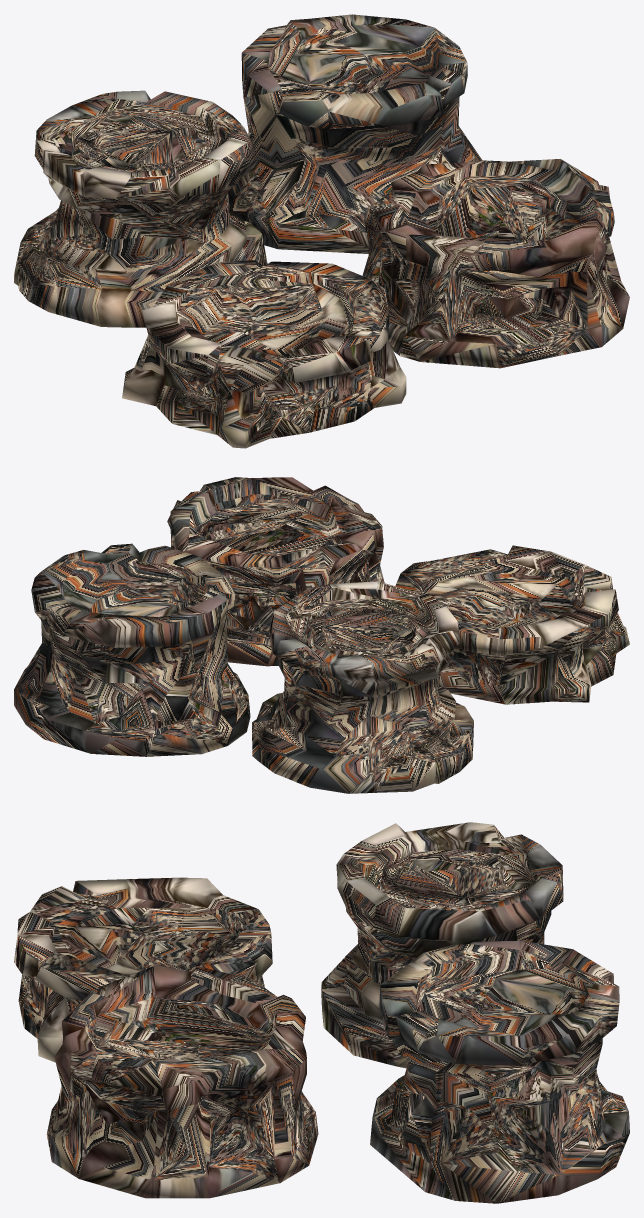
Rendered from Bases_Pedestals_Minis.glb.
The picture shows the model from 3 angles, top to bottom: view 1: azimuth 30°, elevation 25°; view 2: azimuth 150°, elevation 25°; view 3: azimuth 270°, elevation 25°; orthographic projection. The views are drawn at different scales.
Parts seen in each view (by area): view 1: Bases_Pedestals_Minis; view 2: Bases_Pedestals_Minis; view 3: Bases_Pedestals_Minis.
Boxes of the visible parts, x1,y1,x2,y2 form: Bases_Pedestals_Minis: (14,14,629,448); Bases_Pedestals_Minis: (14,477,629,793); Bases_Pedestals_Minis: (14,822,629,1203).
Bounding box in the file's own units: 1.85 × 0.5294 × 1.89.
1 material, 1 textured.
